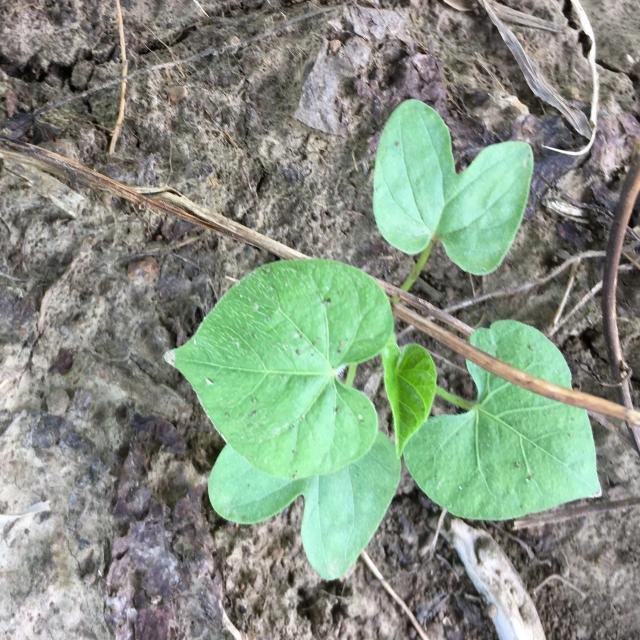MorningGlory: (166, 99, 601, 581)
